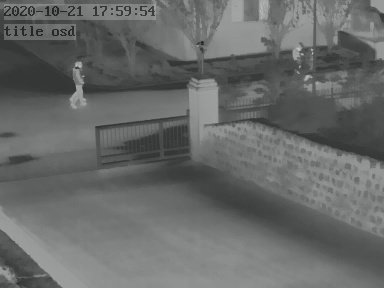person: (69, 57, 87, 107), (293, 44, 304, 71)
